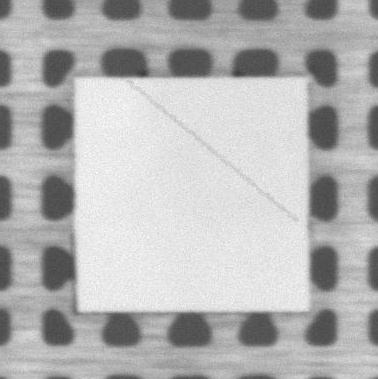DIE_CRACK: (128, 81, 296, 221)
